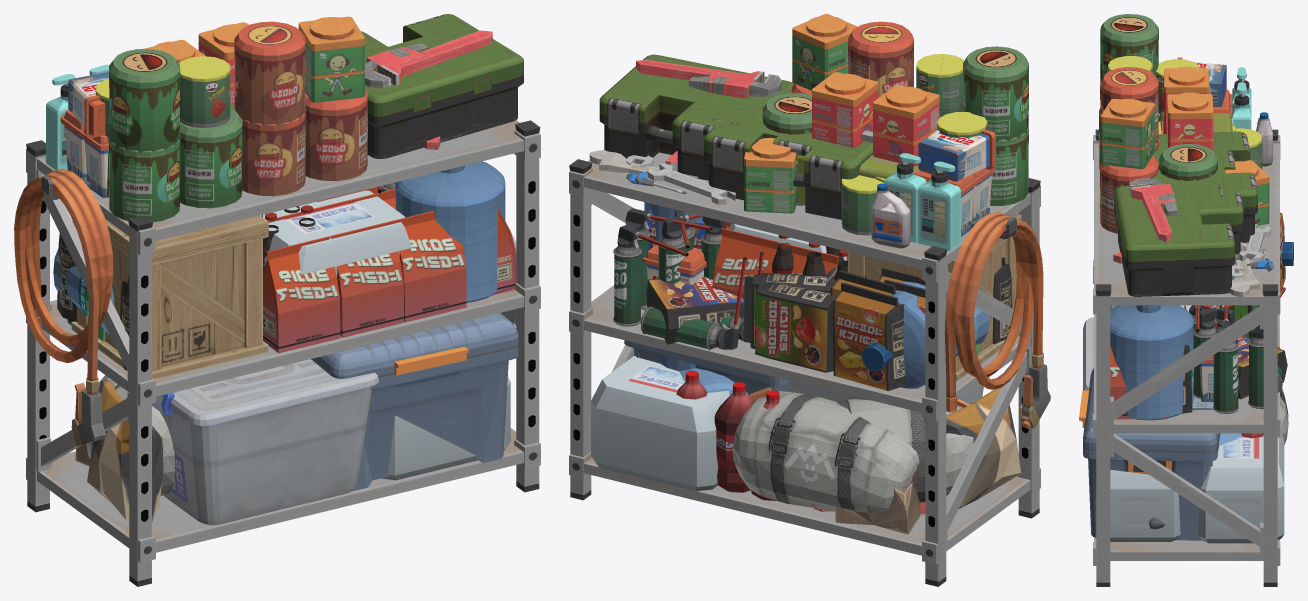
The model's file is Home_01_ID201.obj.
3 views of the same model, side by side, from view 1: azimuth 30°, elevation 25°; view 2: azimuth 150°, elevation 25°; view 3: azimuth 270°, elevation 25° (orthographic). The views are drawn at different scales.
Size of the model in its own units: 2.21 by 2.42 by 1.14.
Materials: 106 (106 with a texture image).
